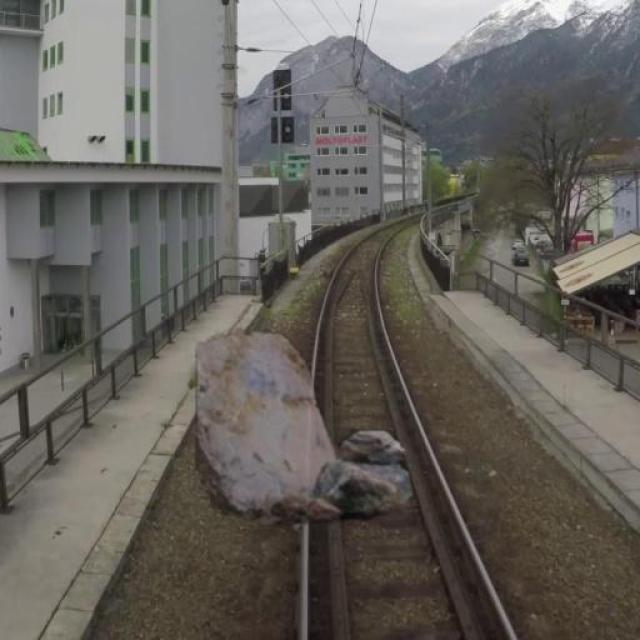Stone: (192, 325, 416, 524)
